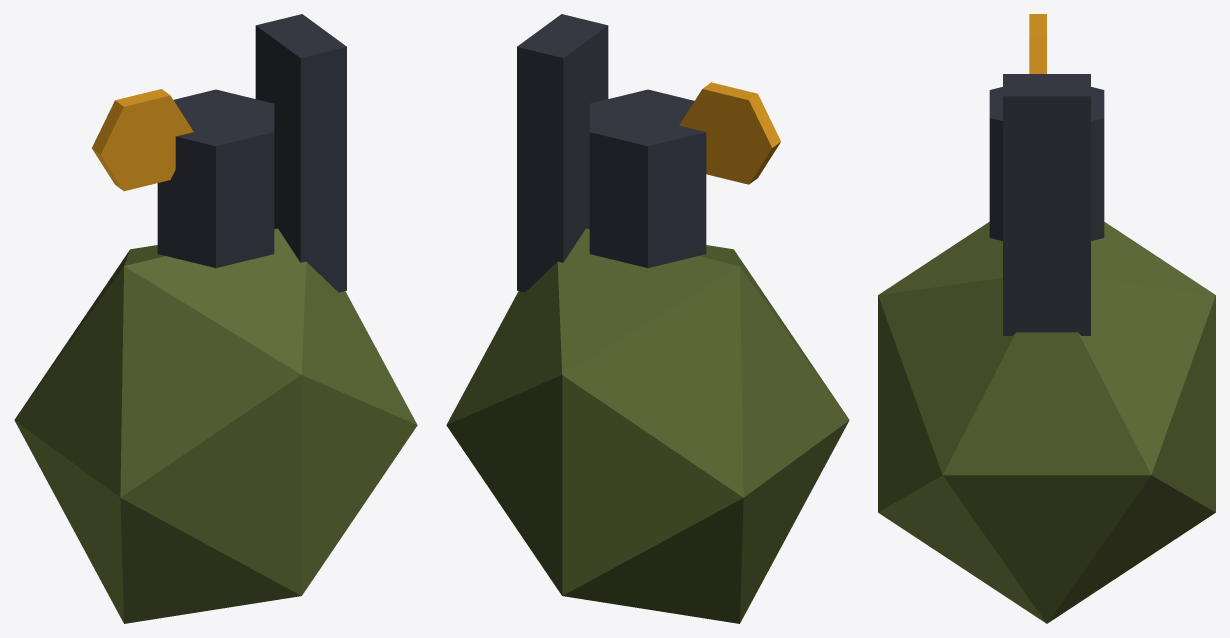
File: frag_grenade.glb
The picture shows the model from 3 angles, left to right: view 1: azimuth 30°, elevation 25°; view 2: azimuth 150°, elevation 25°; view 3: azimuth 270°, elevation 25°; orthographic projection.
Visible parts, largest first — view 1: model; view 2: model; view 3: model.
Boxes of the visible parts, x1,y1,x2,y2 form: model: (14,14,417,623); model: (446,14,849,623); model: (878,14,1215,623).
Size of the model in its own units: 0.0766 by 0.134 by 0.0766.
